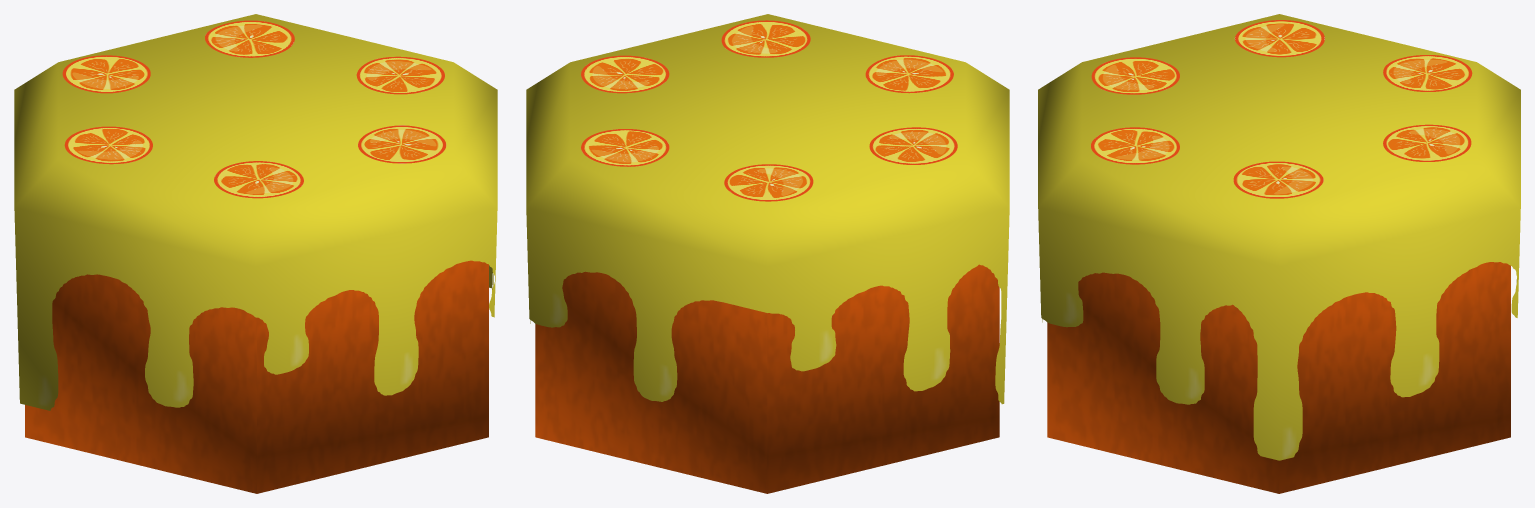
File: Cake_A_01.FBX
3 views of the same model, side by side, from view 1: azimuth 30°, elevation 25°; view 2: azimuth 150°, elevation 25°; view 3: azimuth 270°, elevation 25° (orthographic).
Parts seen in each view (by area): view 1: Cake; view 2: Cake; view 3: Cake.
Boxes of the visible parts, x1,y1,x2,y2 form: Cake: (14, 14, 497, 493); Cake: (526, 14, 1009, 493); Cake: (1038, 14, 1520, 493).
Size of the model in its own units: 106 by 56.96 by 92.14.
